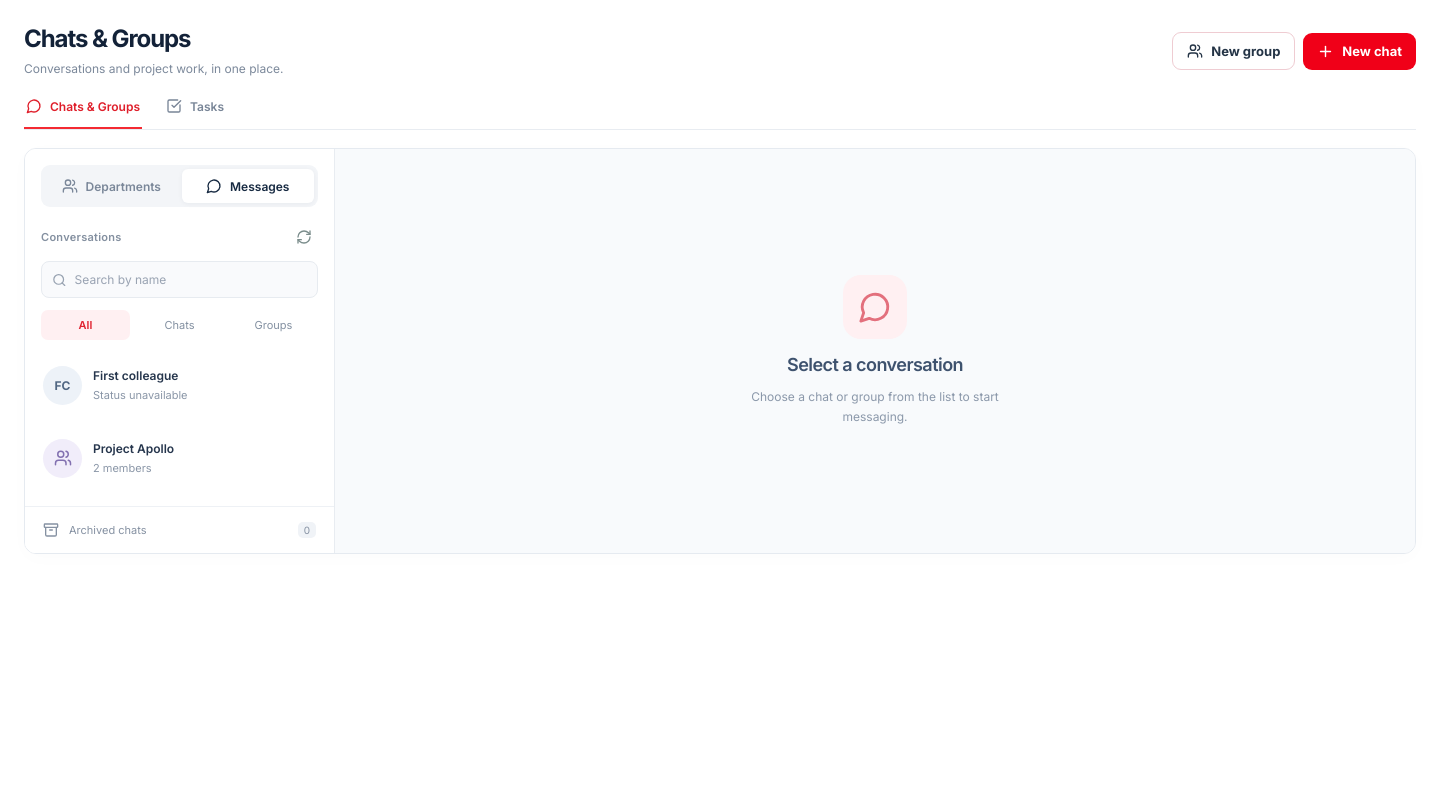
Simple conversation navigation › keeps search and group filters available without opening a conversation
Expected: the button "First colleague" is shown, [33,350,326,420]
Click the button "Groups" at (274, 325), box [229,310,318,340]
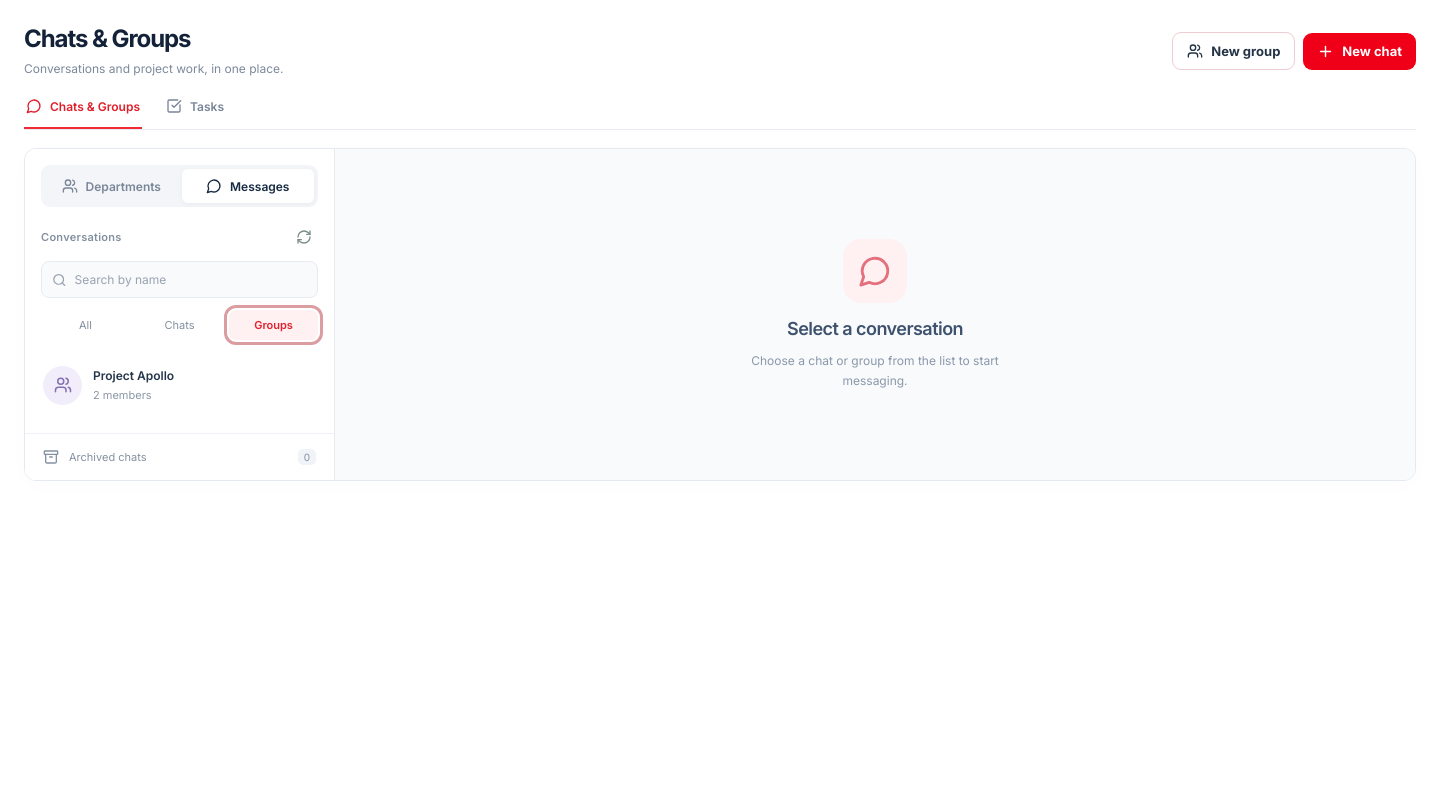
Expected: the button "Project Apollo 2 members" is shown, [33,350,326,420]
Expected: the button "First colleague" is gone
Type "Missing" into the field named "Search conversations" at (191, 280), box [75,262,307,297]
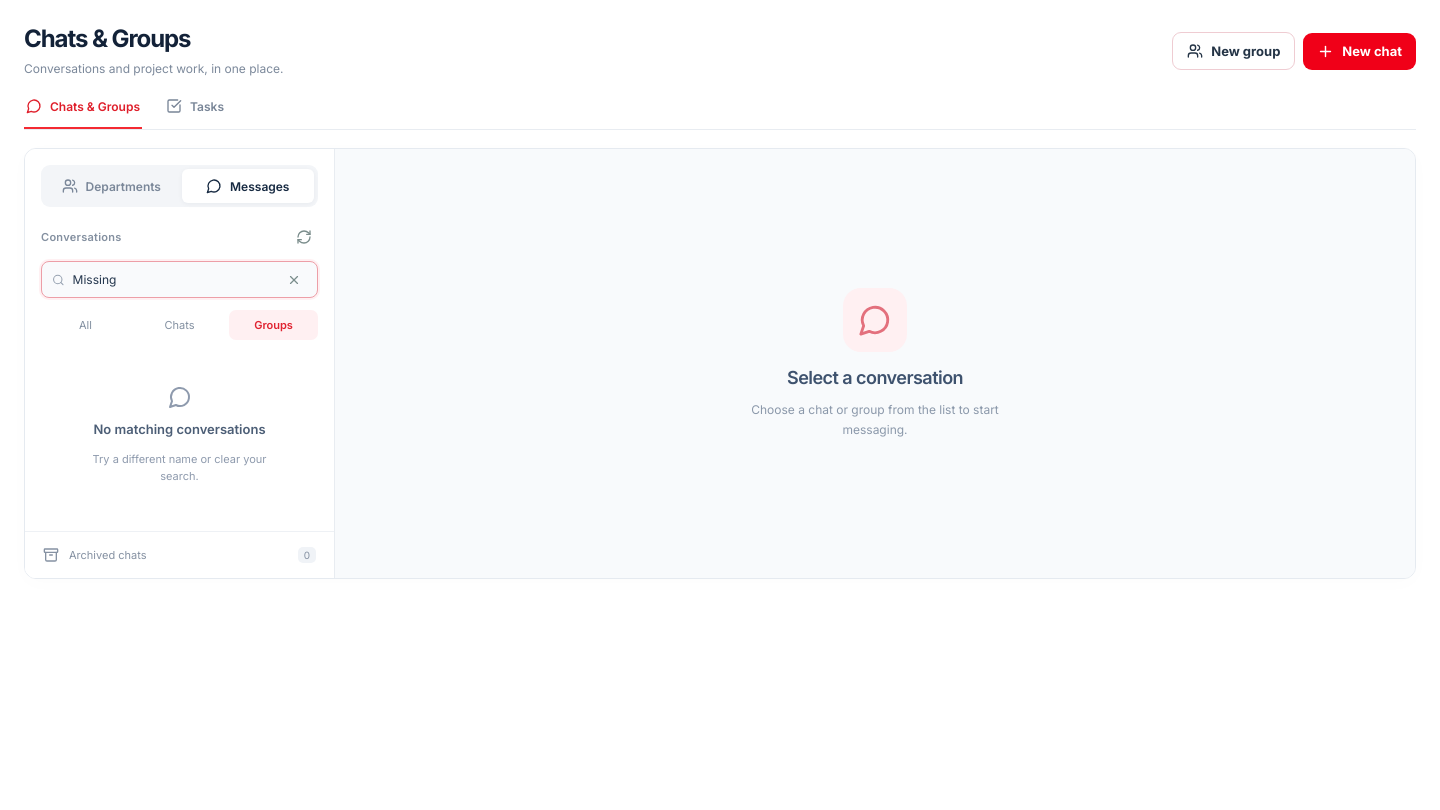
Expected: the text "No matching conversations" is shown, [94,419,266,441]
Click the button named "Clear conversation search" at (294, 280), box [281,267,307,293]
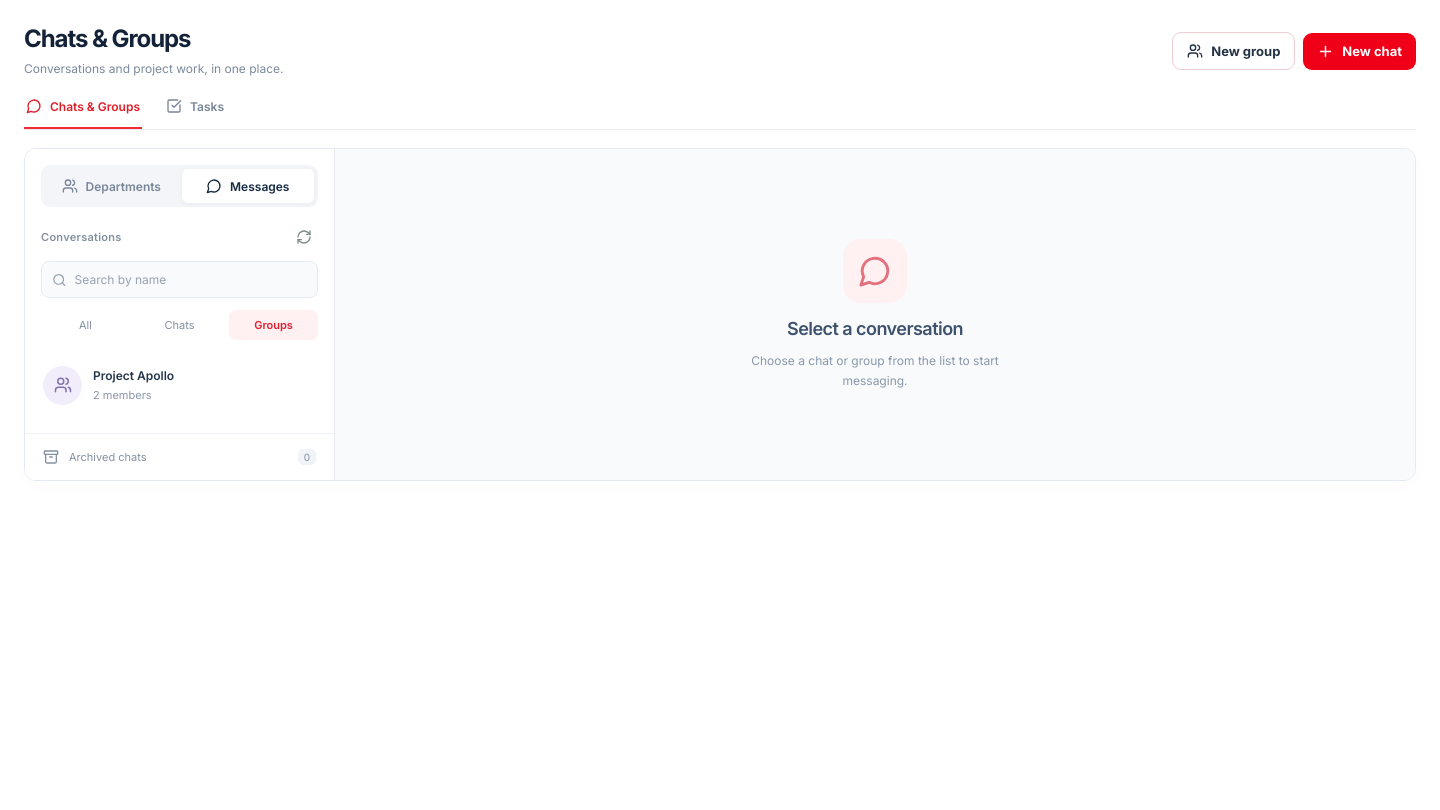
Click the button "Chats" at (180, 325), box [135,310,224,340]
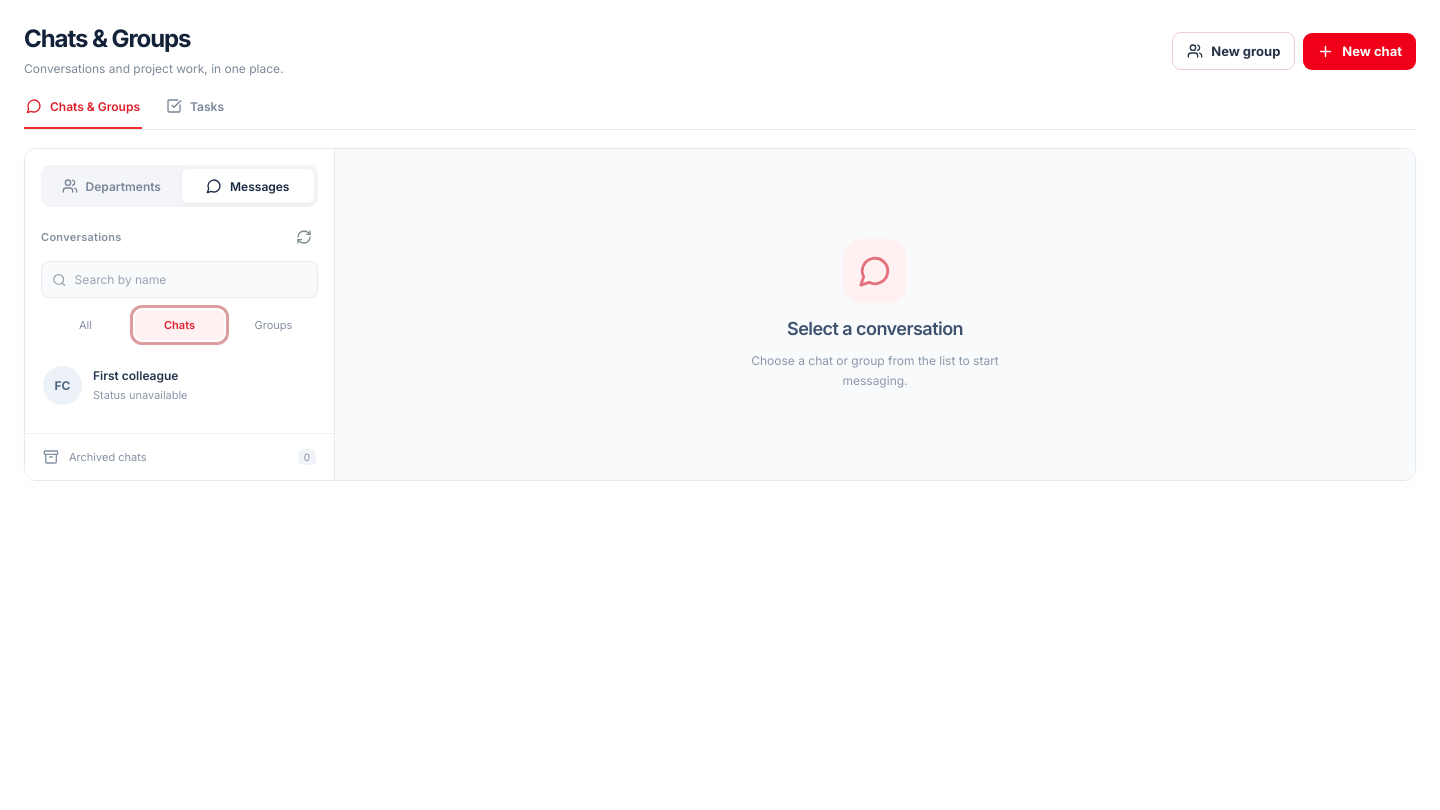
Expected: the button "First colleague" is shown, [33,350,326,420]
Expected: the button "Project Apollo" is gone
